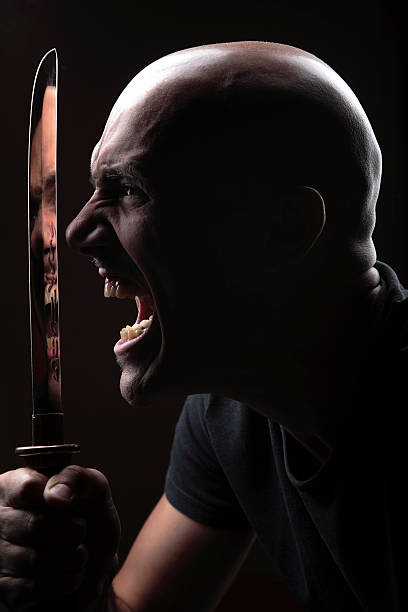knife: (11, 43, 86, 478)
